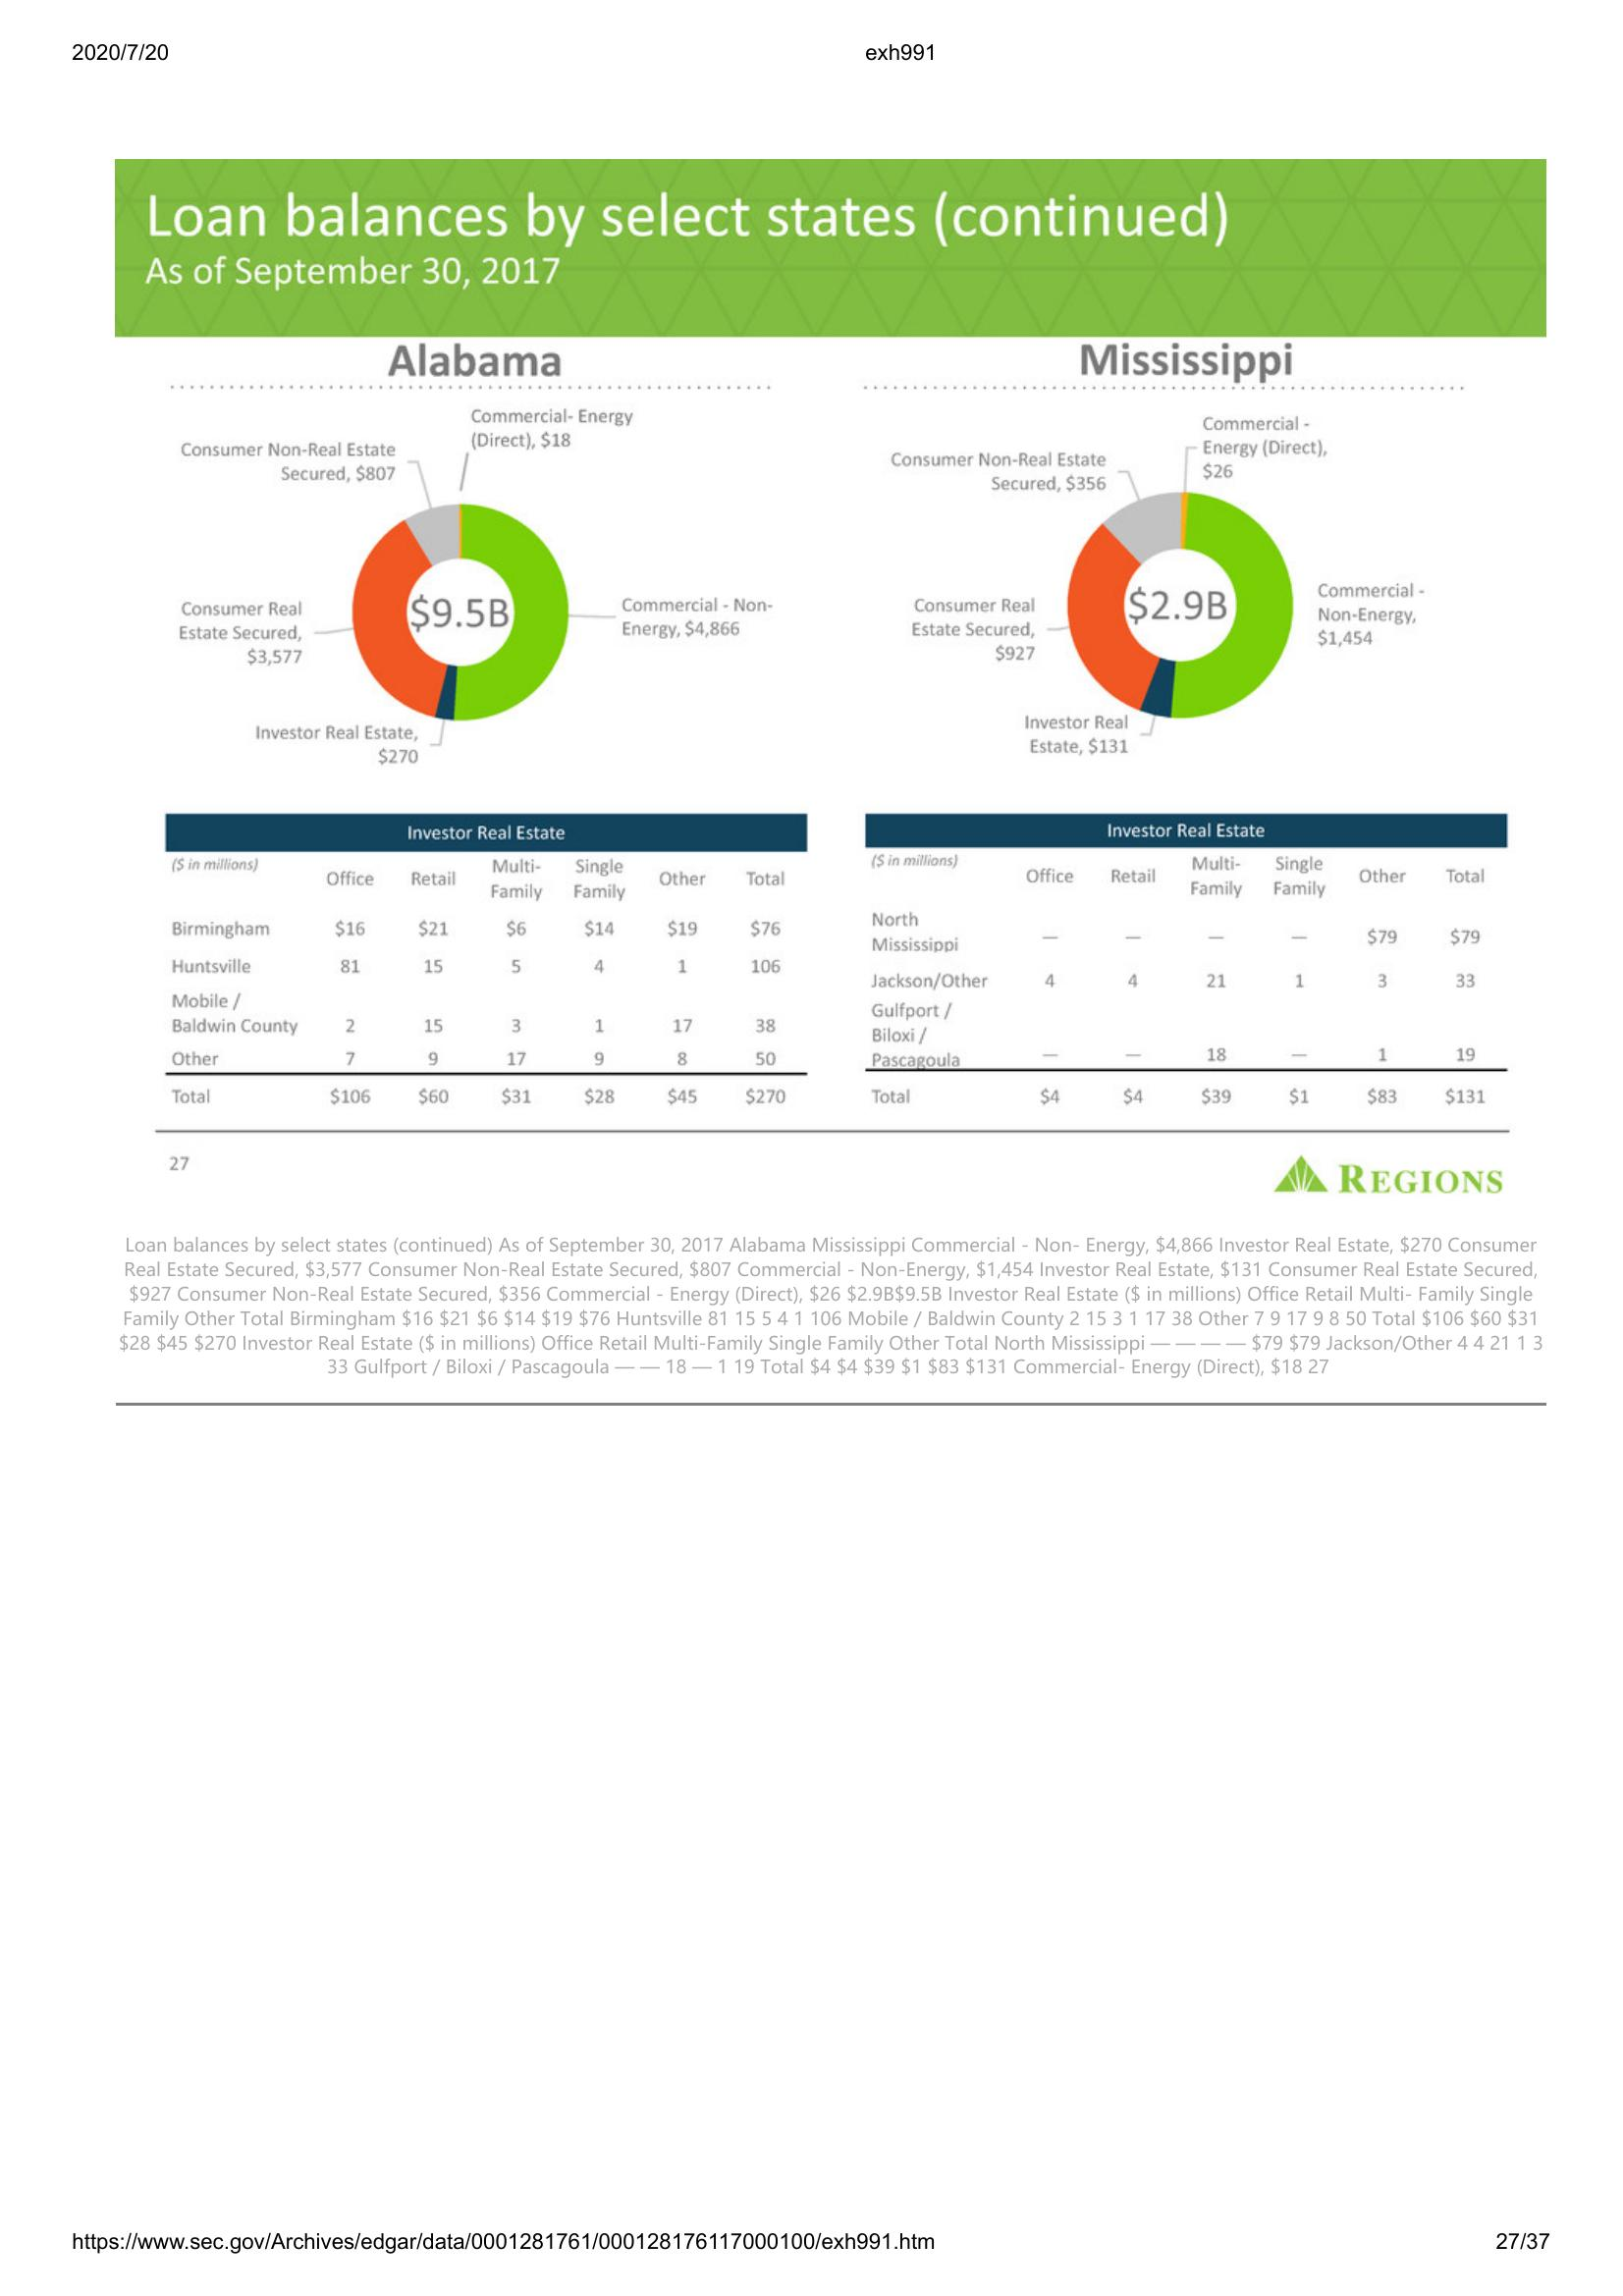table: (859, 807, 1512, 1115), (158, 807, 810, 1113)
